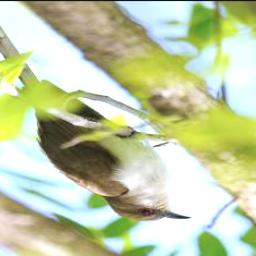Cuckoo: (0, 14, 192, 224)
